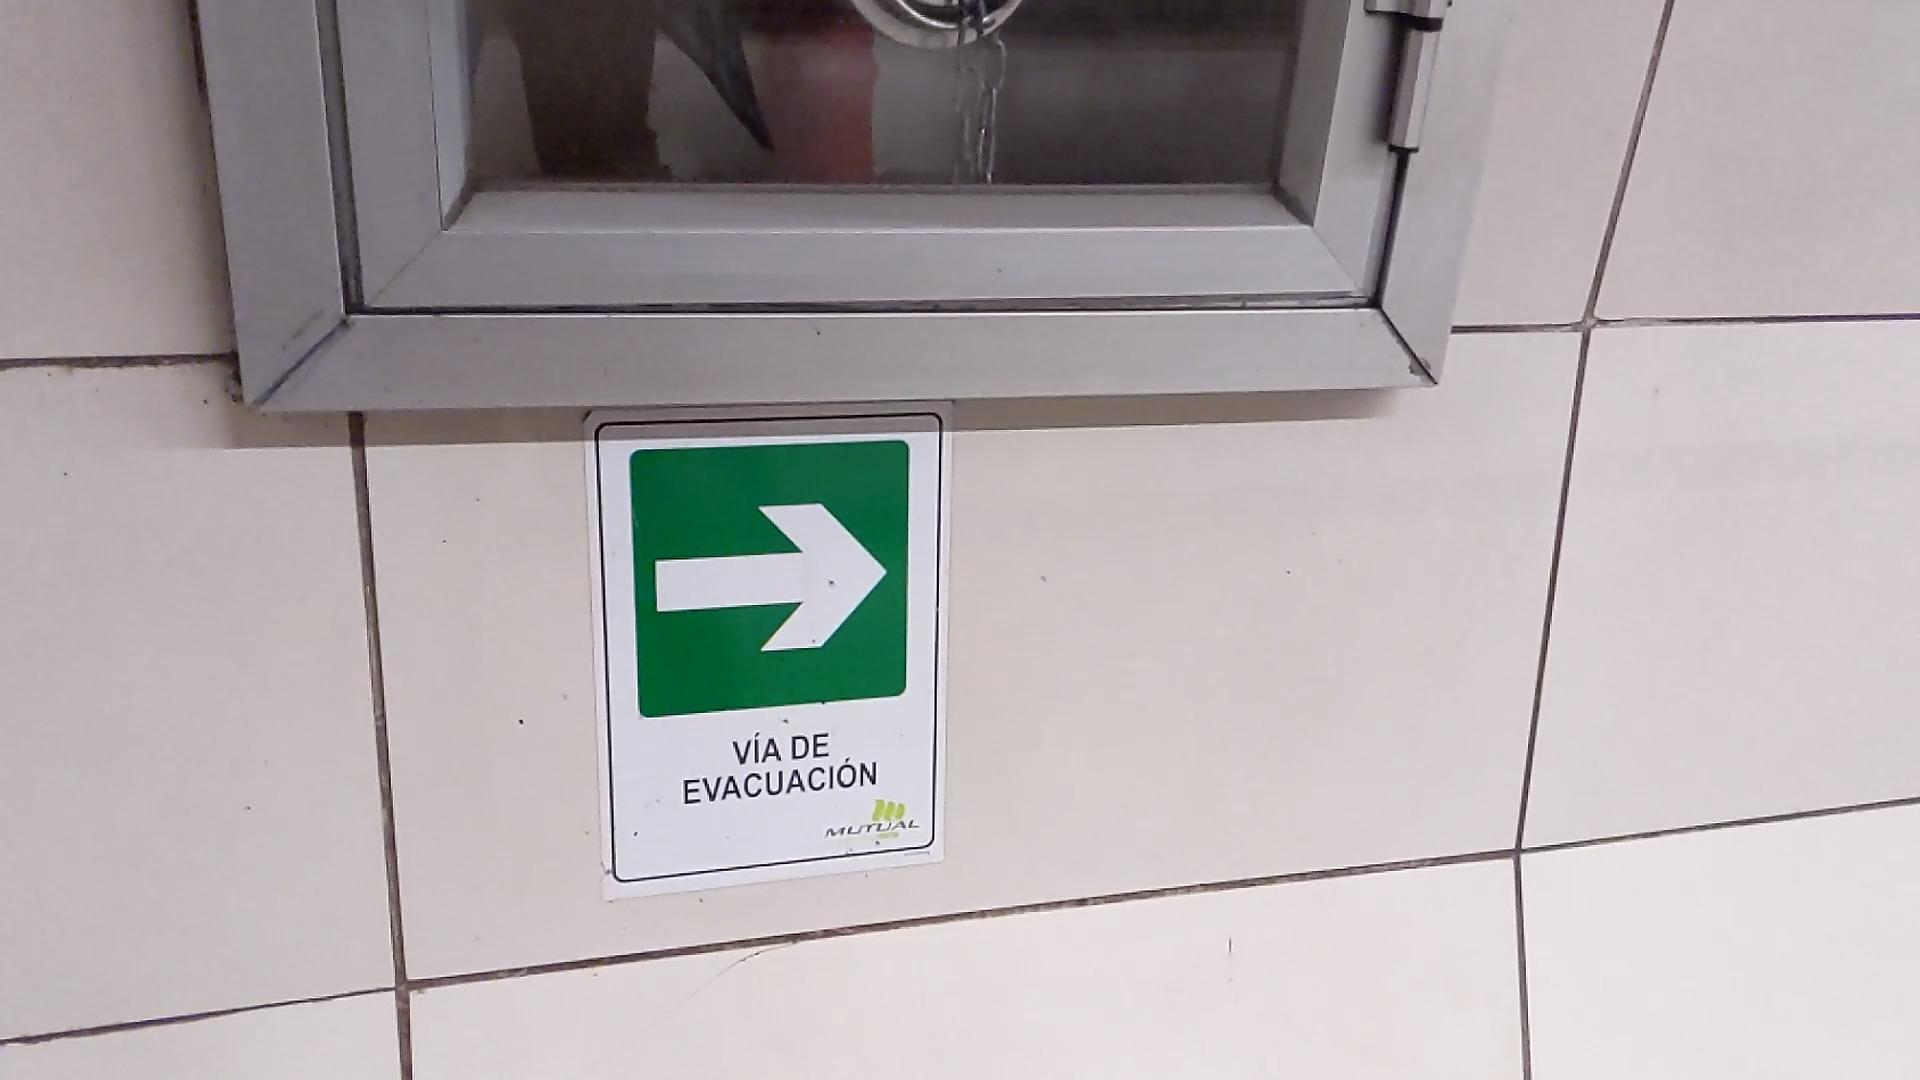emergency right arrow: (650, 496, 893, 658)
